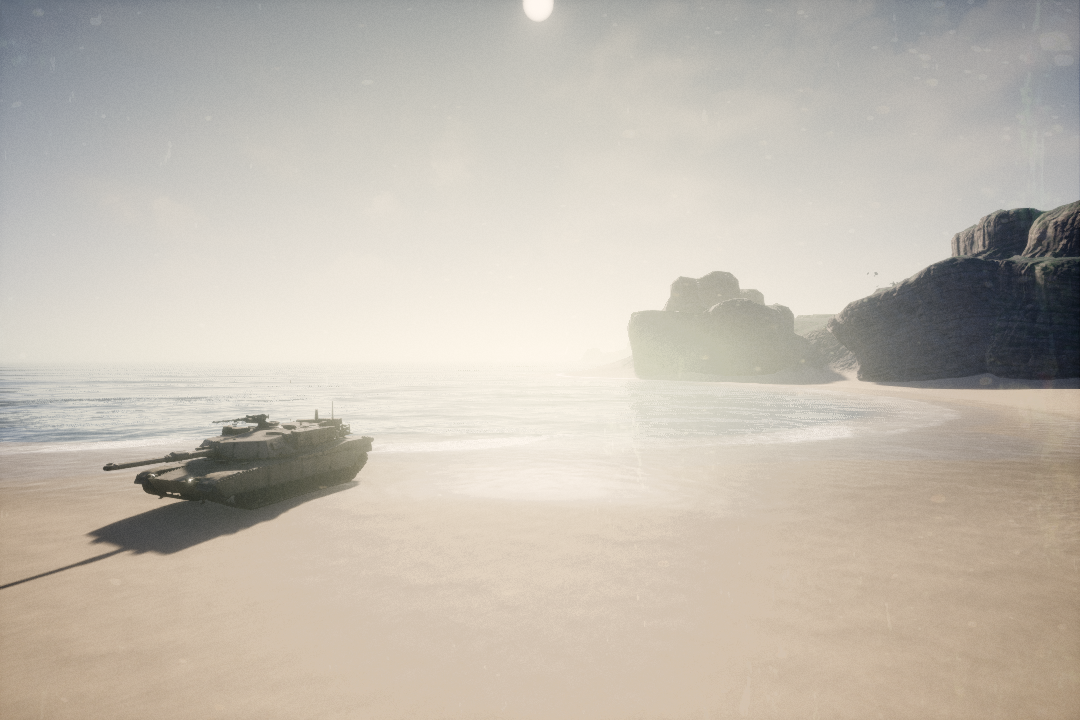tank: (97, 405, 381, 513)
